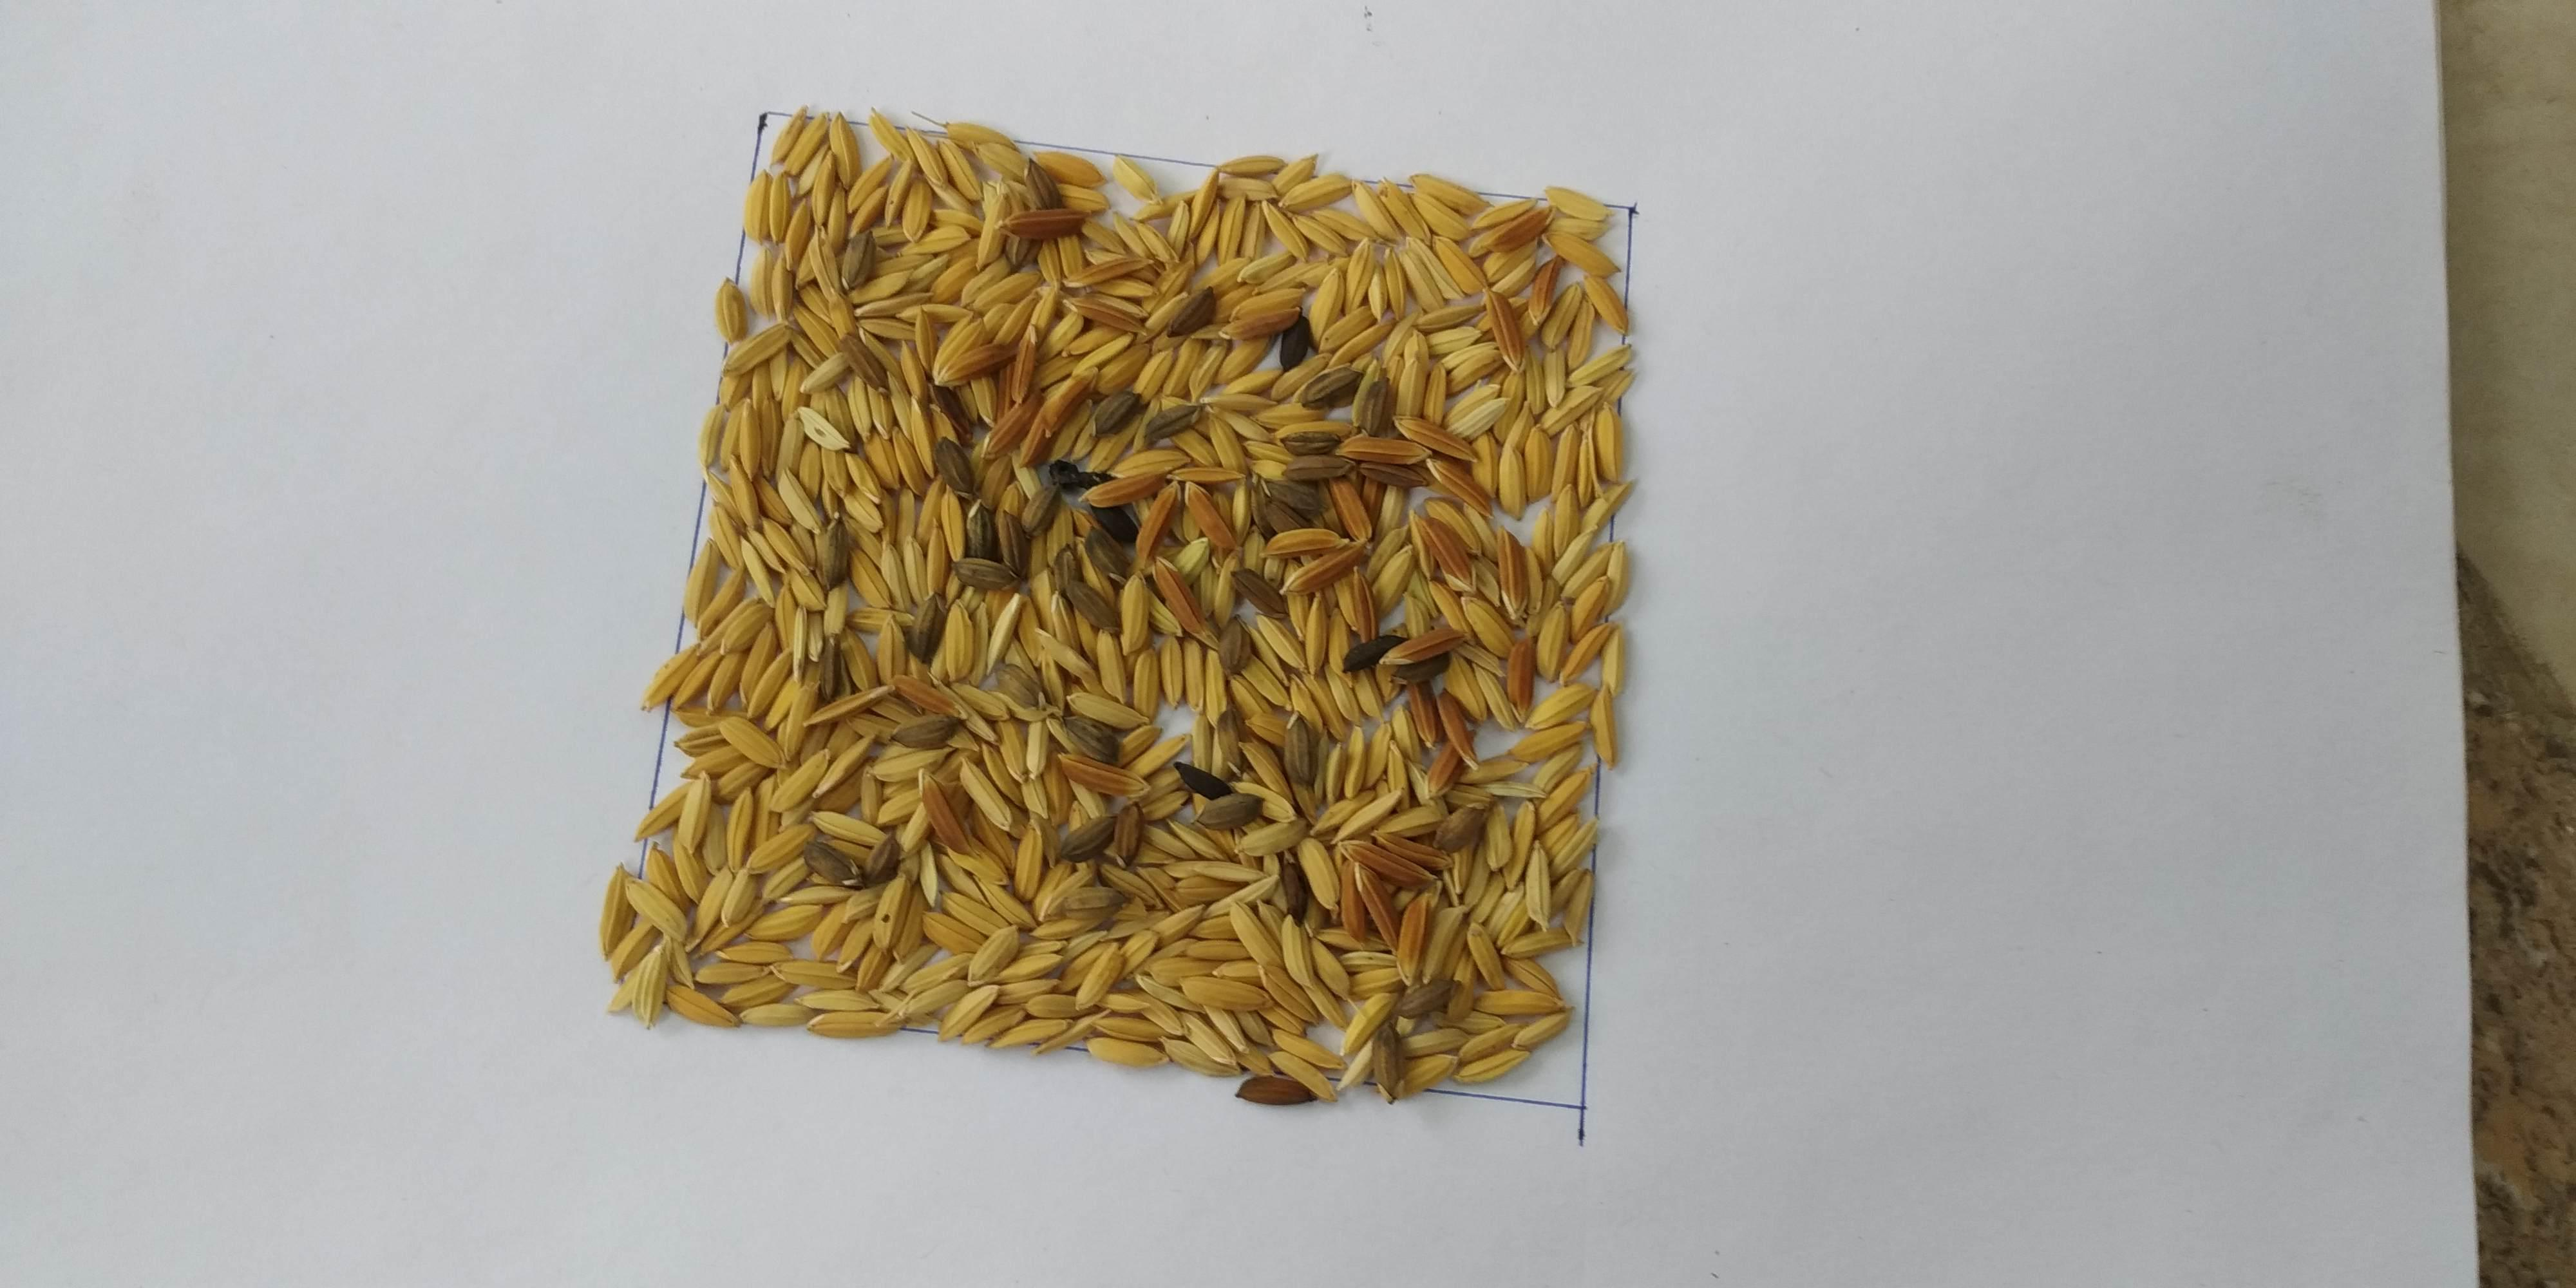impure: (772, 195, 1567, 1012)
